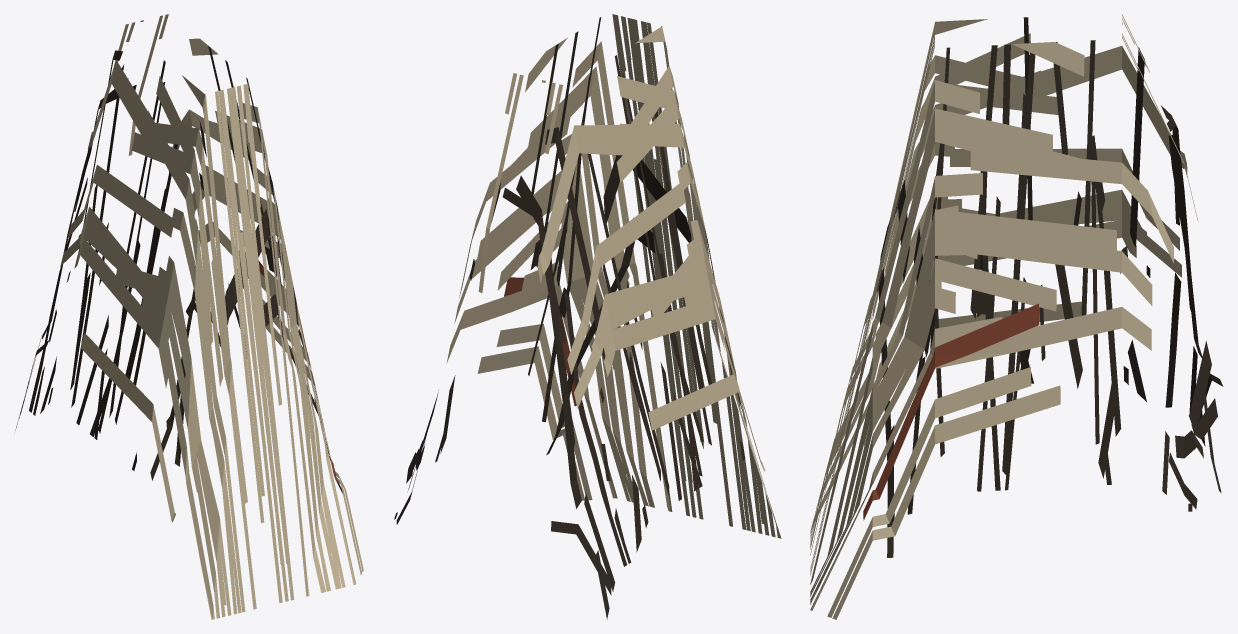
The model's file is dam_domes_fin_east_detail1.glb.
The picture shows the model from 3 angles, left to right: view 1: azimuth 30°, elevation 25°; view 2: azimuth 150°, elevation 25°; view 3: azimuth 270°, elevation 25°; orthographic projection. The views are drawn at different scales.
Visible parts, largest first — view 1: dam_domes_fin_east_detail1; view 2: dam_domes_fin_east_detail1; view 3: dam_domes_fin_east_detail1.
Boxes of the visible parts, box(x1,y1,x2,y2) form: dam_domes_fin_east_detail1: box(15, 14, 363, 619); dam_domes_fin_east_detail1: box(394, 14, 781, 619); dam_domes_fin_east_detail1: box(810, 14, 1223, 619).
Bounding box in the file's own units: 8 × 19.32 × 13.25.
